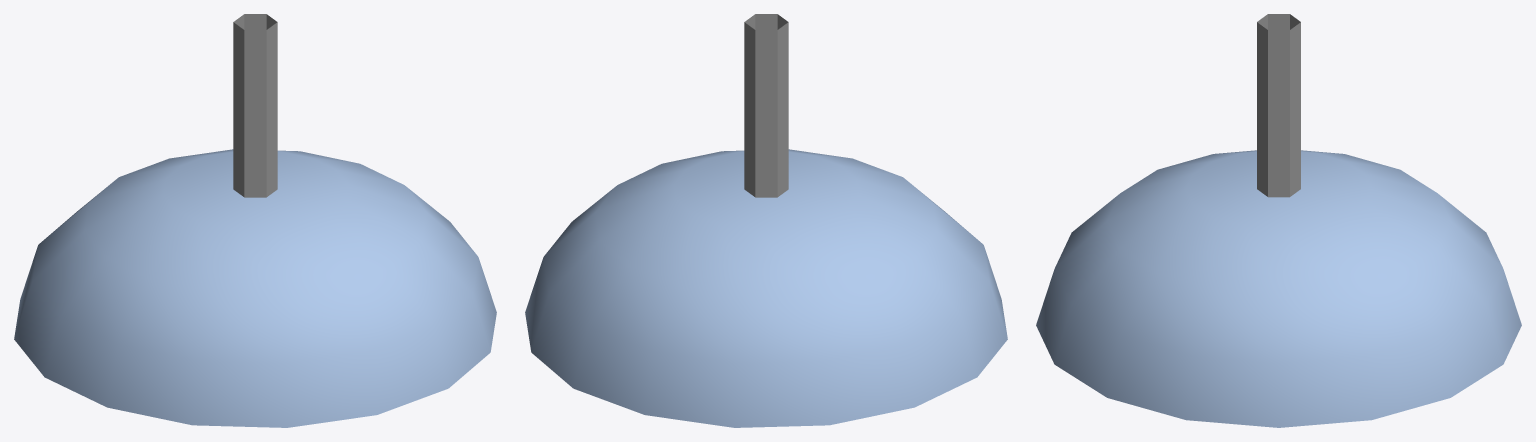
Rendered from lightSupport.fbx.
3 views of the same model, side by side, from view 1: azimuth 30°, elevation 25°; view 2: azimuth 150°, elevation 25°; view 3: azimuth 270°, elevation 25° (orthographic).
Parts seen in each view (by area): view 1: Sphere.001; view 2: Sphere.001; view 3: Sphere.001.
Boxes of the visible parts, x1,y1,x2,y2 form: Sphere.001: (14, 14, 496, 427); Sphere.001: (525, 14, 1007, 427); Sphere.001: (1036, 14, 1521, 427).
Size of the model in its own units: 49.89 by 34.35 by 49.89.
